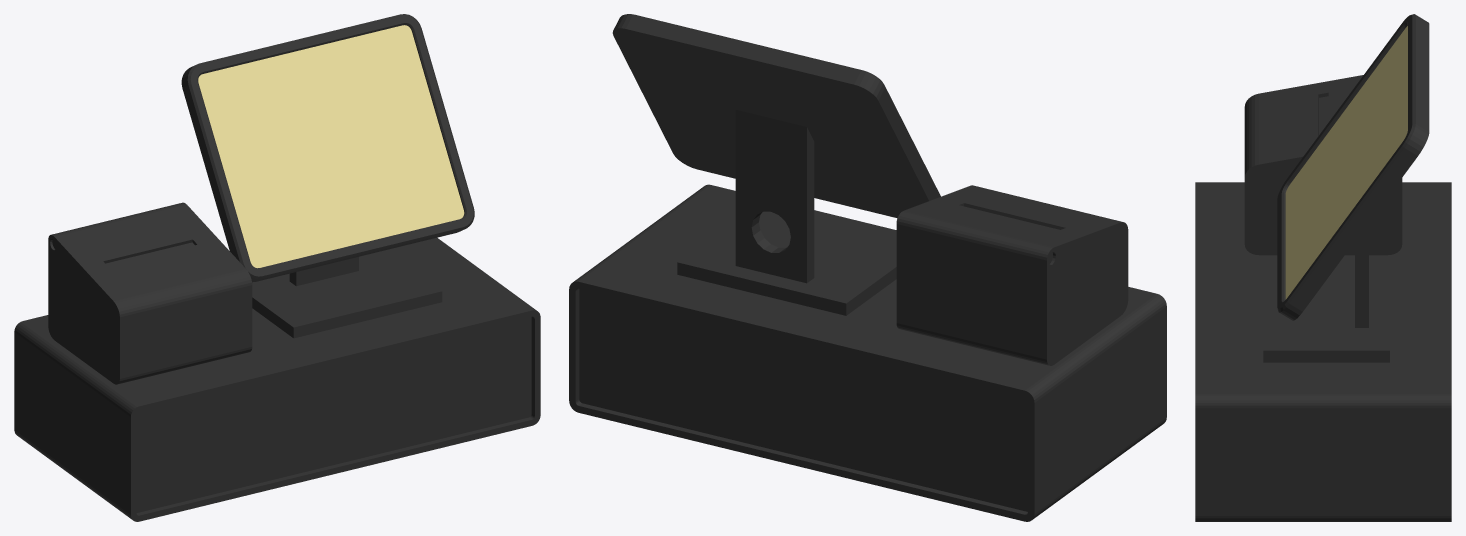
File: cashier-machine.fbx
3 views of the same model, side by side, from view 1: azimuth 30°, elevation 25°; view 2: azimuth 150°, elevation 25°; view 3: azimuth 270°, elevation 25° (orthographic). The views are drawn at different scales.
Visible parts, largest first — view 1: Cube, Cube.004, Cube.001, Cube.002, Cube.003; view 2: Cube, Cube.001, Cube.004, Cube.003, Cube.002; view 3: Cube, Cube.004, Cube.001, Cube.002, Cube.003.
Boxes of the visible parts, x1=… form: Cube: x1=14, y1=238, x2=540, y2=521; Cube.004: x1=181, y1=14, x2=474, y2=282; Cube.001: x1=48, y1=202, x2=252, y2=384; Cube.002: x1=252, y1=250, x2=442, y2=338; Cube.003: x1=289, y1=257, x2=358, y2=286; Cube: x1=569, y1=184, x2=1166, y2=521; Cube.001: x1=896, y1=185, x2=1128, y2=365; Cube.004: x1=612, y1=14, x2=940, y2=218; Cube.003: x1=735, y1=110, x2=814, y2=283; Cube.002: x1=677, y1=218, x2=896, y2=315; Cube: x1=1195, y1=182, x2=1451, y2=521; Cube.004: x1=1277, y1=14, x2=1429, y2=320; Cube.001: x1=1244, y1=75, x2=1402, y2=255; Cube.002: x1=1263, y1=270, x2=1389, y2=362; Cube.003: x1=1355, y1=223, x2=1368, y2=327.
Size of the model in its own units: 57.09 by 46.03 by 28.12.
